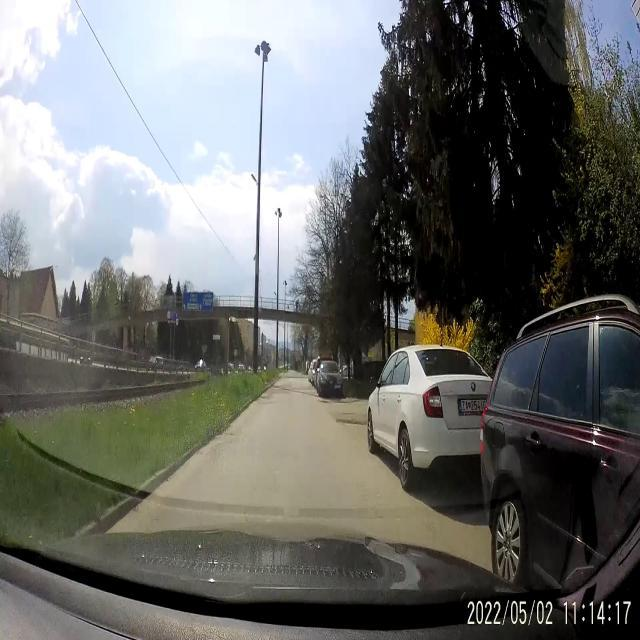Pothole: (338, 412, 367, 434)
